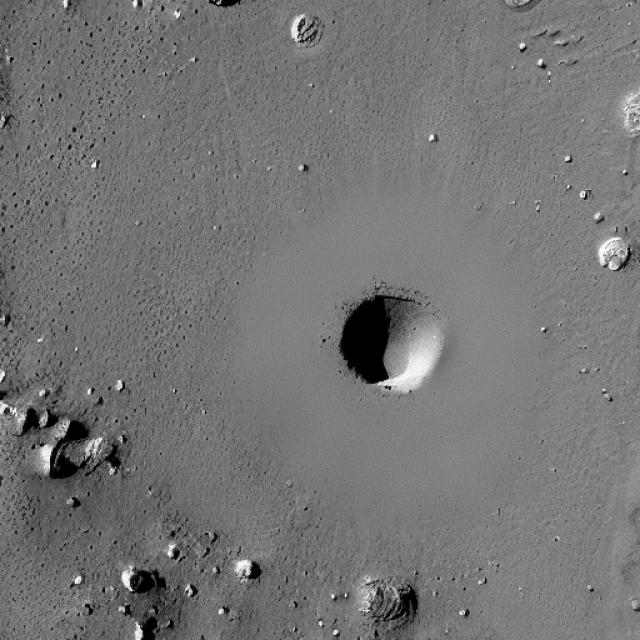crater: (339, 294, 444, 393)
